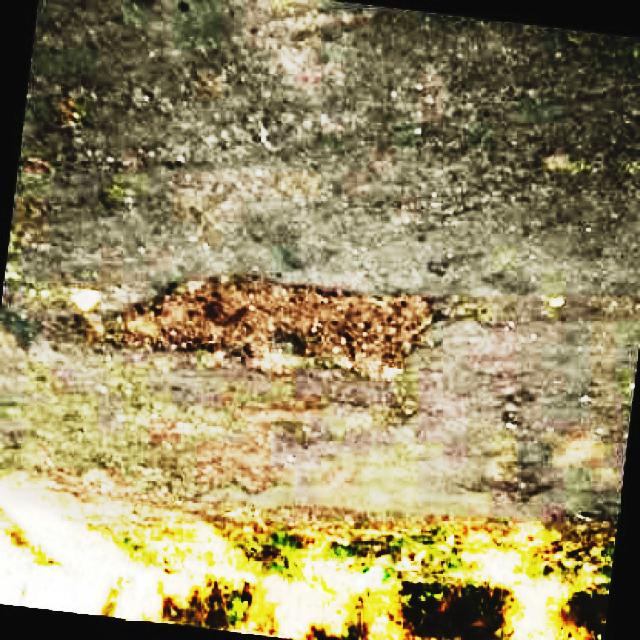pothole: (80, 268, 448, 383)
